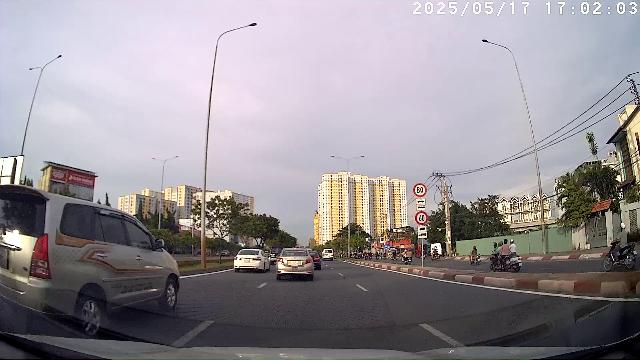127-toc-do-toi-da-60: (415, 211, 429, 225)
127-toc-do-toi-da-80: (413, 183, 427, 197)
